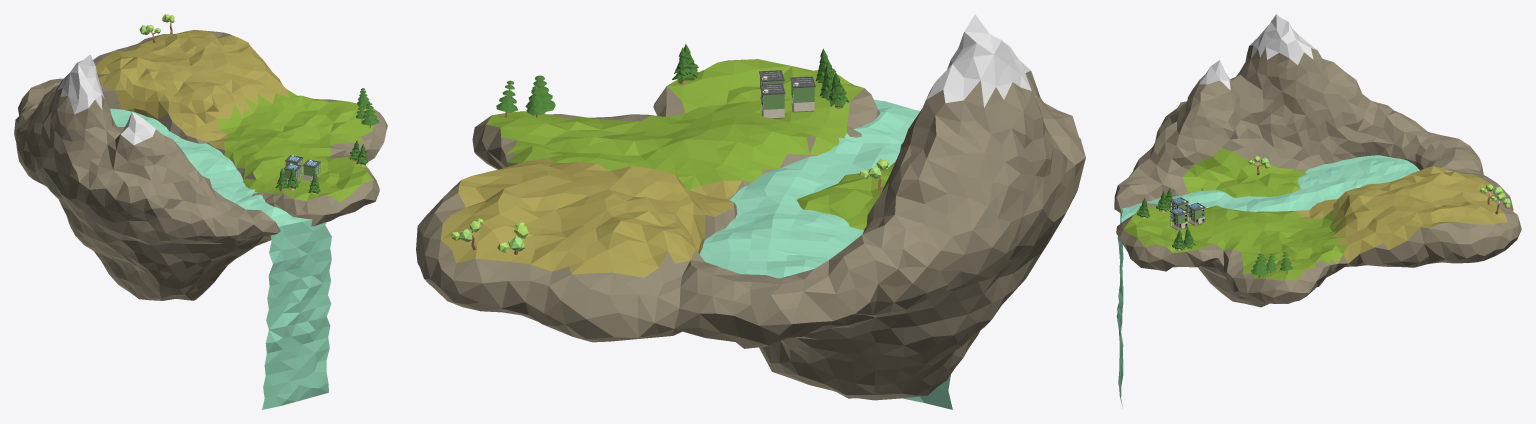
Rendered from gameScene.glb.
3 views of the same model, side by side, from view 1: azimuth 30°, elevation 25°; view 2: azimuth 150°, elevation 25°; view 3: azimuth 270°, elevation 25° (orthographic). The views are drawn at different scales.
Visible parts, largest first — view 1: Icosphere.003, Plane.006; view 2: Icosphere.003, Plane.006, Cube.007, Cube.008; view 3: Icosphere.003, Plane.006.
Boxes of the visible parts, x1,y1,x2,y2 form: Icosphere.003: [14, 30, 387, 300]; Plane.006: [110, 108, 331, 409]; Icosphere.003: [416, 14, 1085, 400]; Plane.006: [608, 99, 952, 409]; Cube.007: [790, 76, 815, 112]; Cube.008: [760, 83, 785, 118]; Icosphere.003: [1114, 14, 1521, 307]; Plane.006: [1116, 155, 1419, 408].
Bounding box in the file's own units: 31.57 × 28.44 × 33.03.
